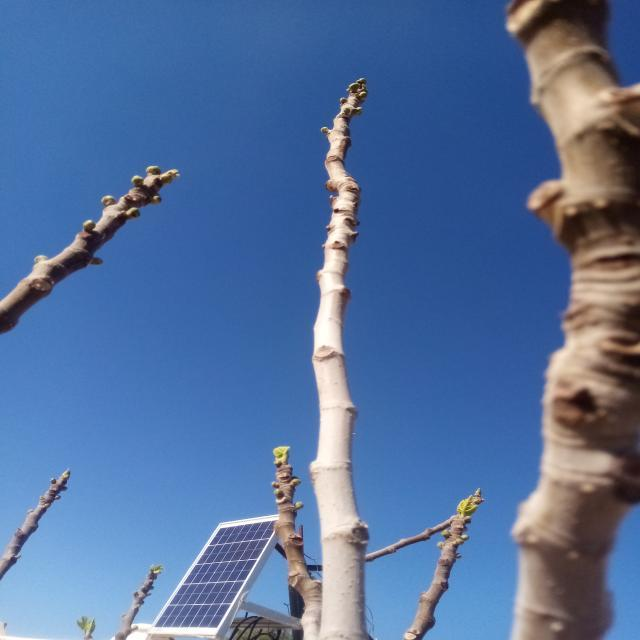no faulty: (146, 514, 278, 635)
